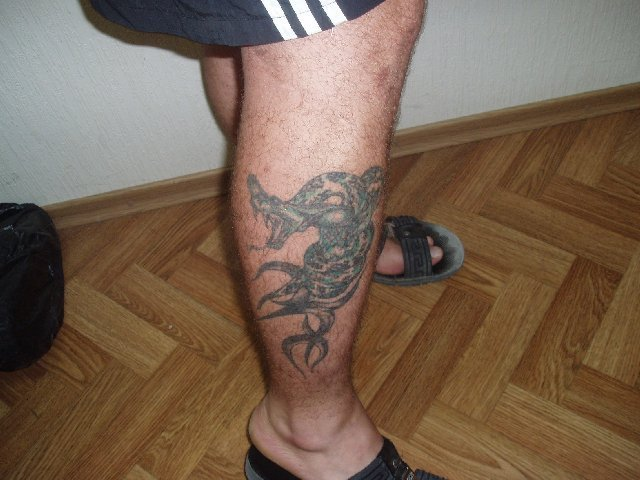tatu7_zmeya: (246, 163, 394, 398)
